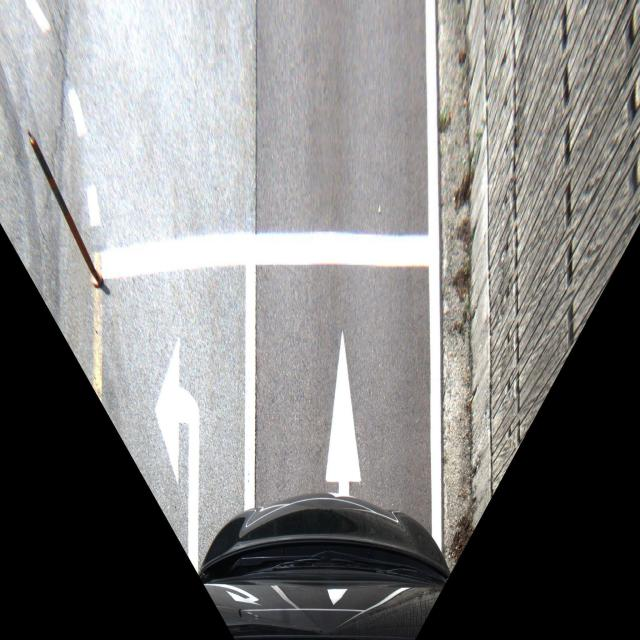left: (134, 330, 256, 579)
